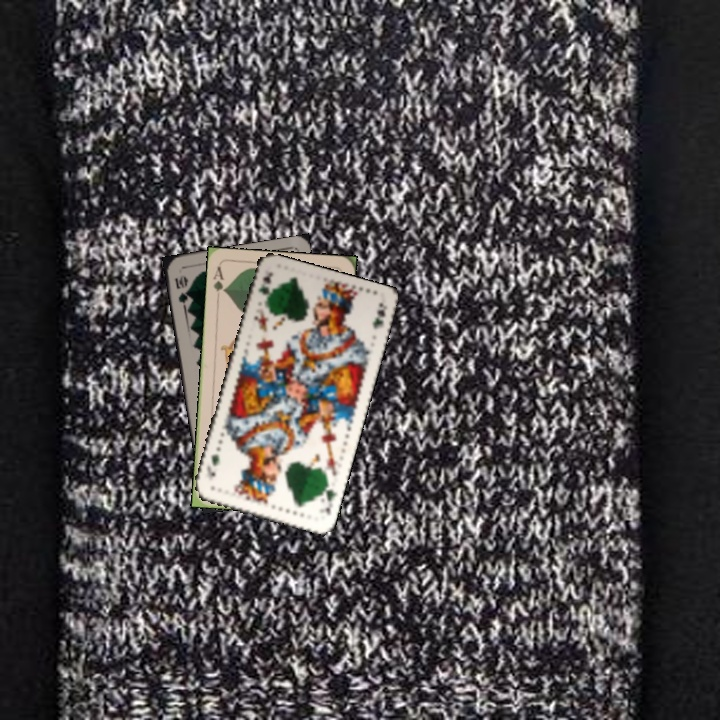G10: (171, 271, 191, 310)
GA: (209, 262, 228, 303)
GK: (318, 480, 339, 519), (255, 269, 276, 298)
